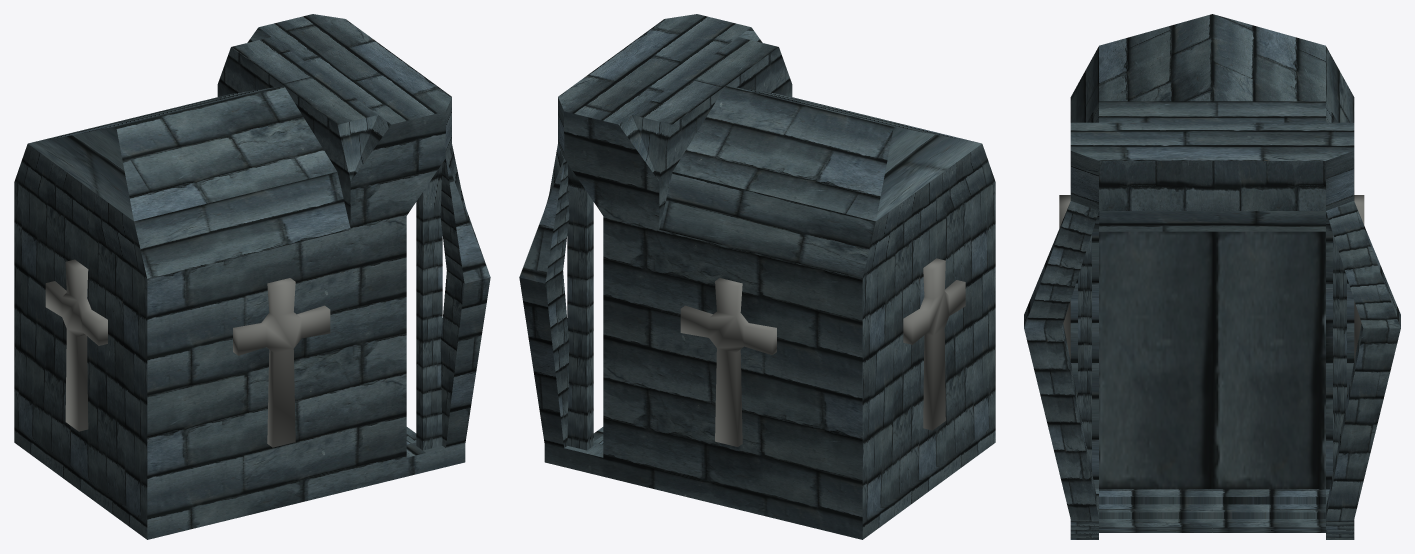
The model's file is mausoleum.obj.
3 views of the same model, side by side, from view 1: azimuth 30°, elevation 25°; view 2: azimuth 150°, elevation 25°; view 3: azimuth 270°, elevation 25° (orthographic). The views are drawn at different scales.
Visible parts, largest first — view 1: Cube.001, grave1, grave1.002; view 2: Cube.001, grave1.001, grave1.002; view 3: Cube.001, grave1, grave1.001.
Boxes of the visible parts, x1=… form: Cube.001: x1=14, y1=14, x2=490, y2=539; grave1: x1=233, y1=278, x2=330, y2=447; grave1.002: x1=45, y1=259, x2=107, y2=431; Cube.001: x1=519, y1=14, x2=995, y2=539; grave1.001: x1=680, y1=278, x2=776, y2=446; grave1.002: x1=903, y1=258, x2=965, y2=430; Cube.001: x1=1024, y1=14, x2=1400, y2=539; grave1: x1=1059, y1=195, x2=1070, y2=360; grave1.001: x1=1354, y1=195, x2=1364, y2=360.
Size of the model in its own units: 89.74 by 92.27 by 83.17.
Materials: 2 (2 with a texture image).
